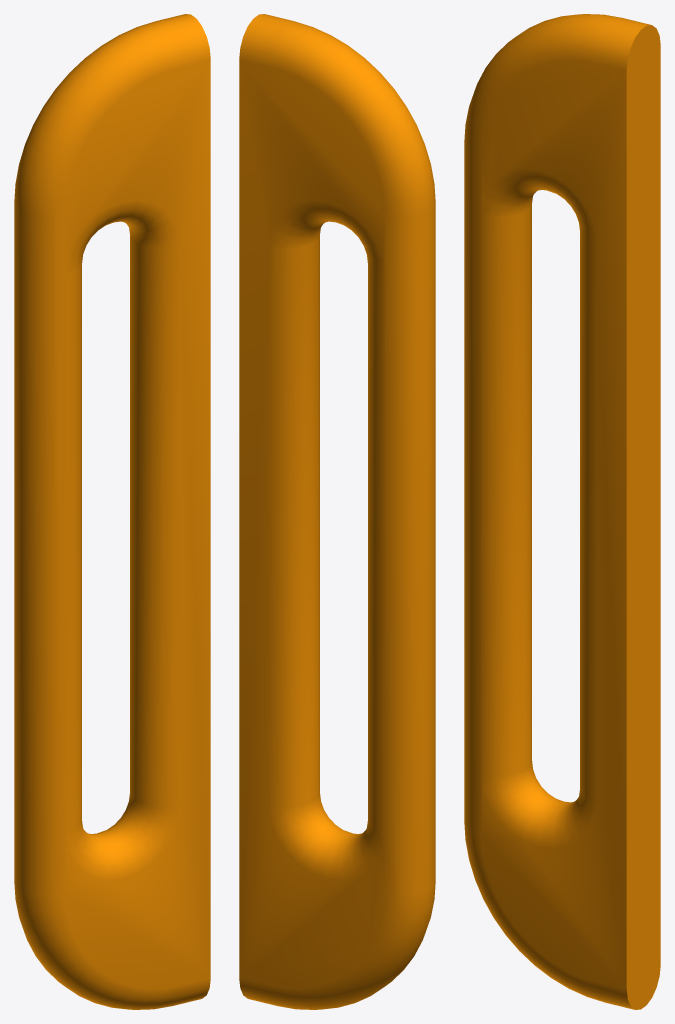
The model's file is scrollpanelhandle.glb.
The picture shows the model from 3 angles, left to right: view 1: azimuth 30°, elevation 25°; view 2: azimuth 150°, elevation 25°; view 3: azimuth 330°, elevation 25°; orthographic projection.
Visible parts, largest first — view 1: ScrollPanelShellHandle; view 2: ScrollPanelShellHandle; view 3: ScrollPanelShellHandle.
Part boxes in pixels (bbox=[...]): ScrollPanelShellHandle: bbox=[14, 14, 210, 1009]; ScrollPanelShellHandle: bbox=[239, 14, 435, 1009]; ScrollPanelShellHandle: bbox=[464, 14, 660, 1009].
Size of the model in its own units: 0.0297 by 0.1592 by 0.01.
